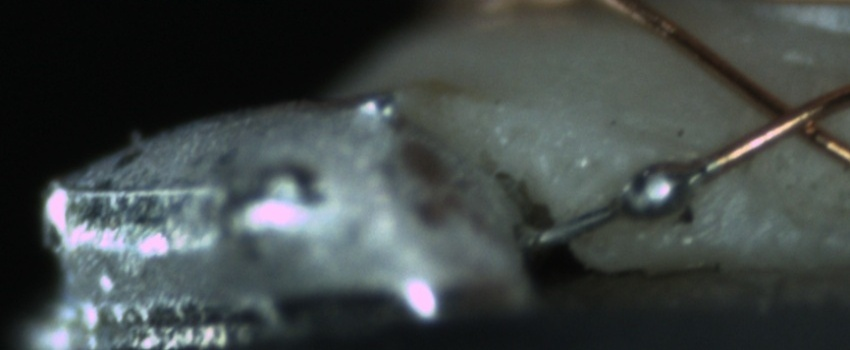CL: (740, 80, 844, 152)
TB: (607, 152, 702, 241)
TS: (525, 155, 724, 251)
TTCW: (537, 142, 743, 247)
